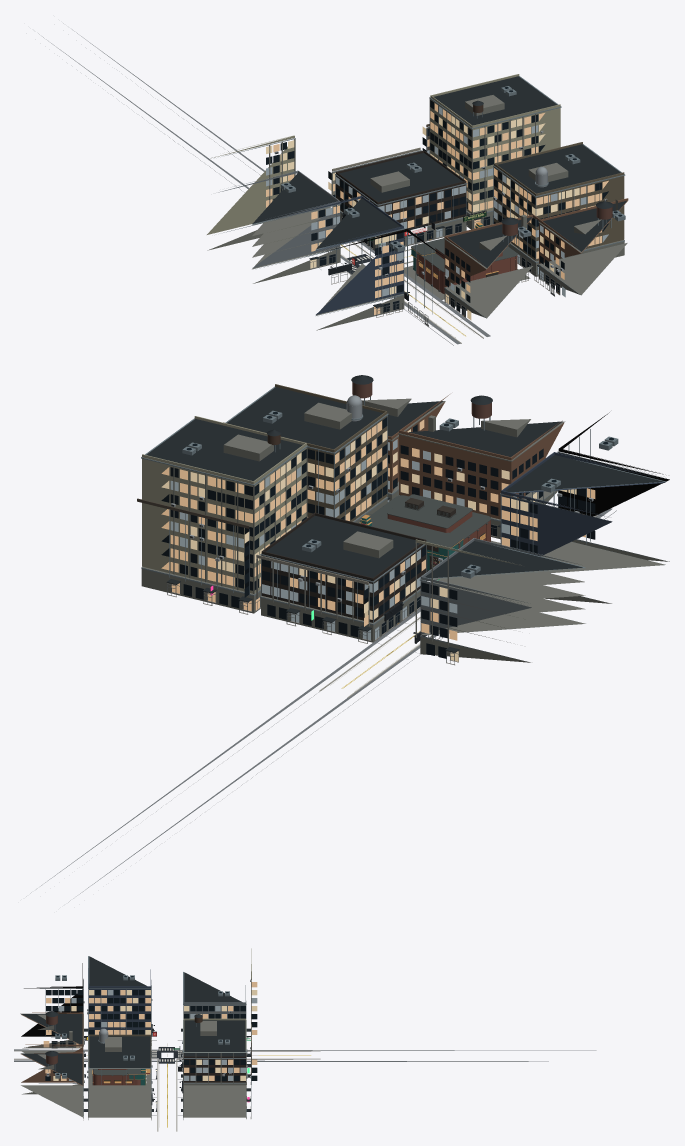
The model's file is ext-club.glb.
3 renders of one model, top to bottom at view 1: azimuth 30°, elevation 25°; view 2: azimuth 150°, elevation 25°; view 3: azimuth 270°, elevation 25°, orthographic. The views are drawn at different scales.
Visible parts, largest first — view 1: Downtown AC grille crop, Crosswalks - asphalt crop; view 2: Downtown AC grille crop, Crosswalks - asphalt crop; view 3: Downtown AC grille crop, Crosswalks - asphalt crop.
Part boxes in pixels (left/top/right/bottom): Downtown AC grille crop: left=38, top=23, right=628, bottom=345; Crosswalks - asphalt crop: left=310, top=210, right=560, bottom=343; Downtown AC grille crop: left=26, top=375, right=669, bottom=902; Crosswalks - asphalt crop: left=167, top=494, right=598, bottom=697; Downtown AC grille crop: left=14, top=948, right=596, bottom=1118; Crosswalks - asphalt crop: left=14, top=1024, right=320, bottom=1131.
Bounding box in the file's own units: 101 × 36.04 × 242.
Materials: 17 (17 with a texture image).
